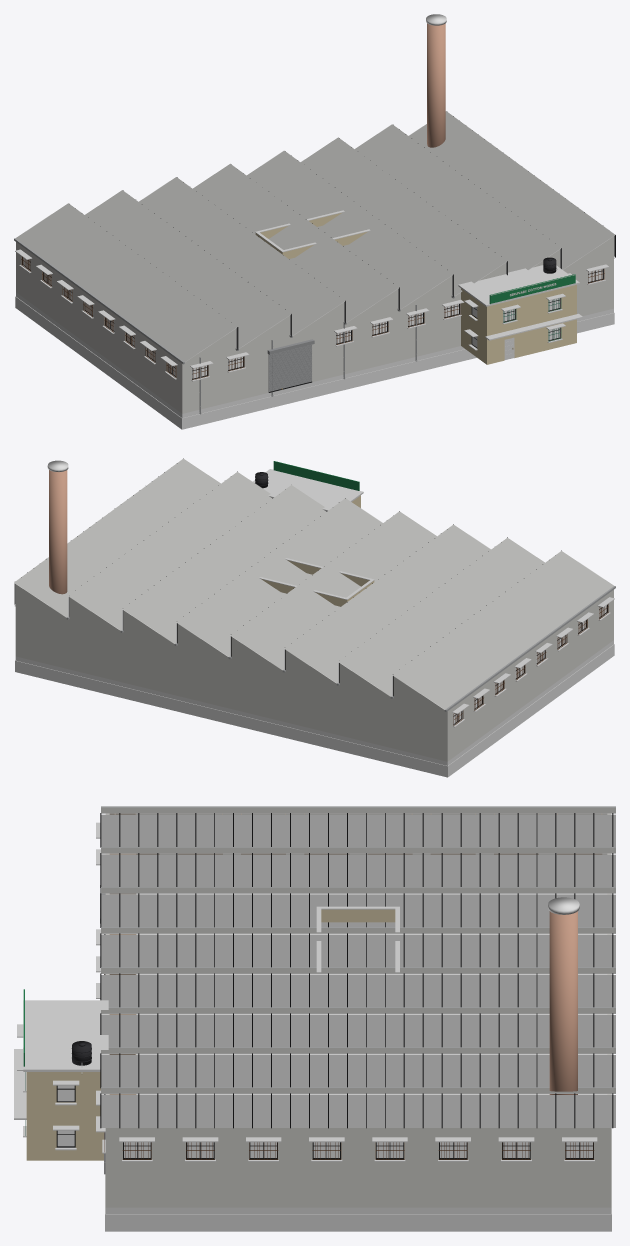
The model's file is mill_shed_48x32_1.glb.
3 renders of one model, top to bottom at view 1: azimuth 30°, elevation 25°; view 2: azimuth 150°, elevation 25°; view 3: azimuth 270°, elevation 25°, orthographic. The views are drawn at different scales.
Visible parts, largest first — view 1: mill_shed_48x32_1; view 2: mill_shed_48x32_1; view 3: mill_shed_48x32_1.
Part boxes in pixels (x1,y1,x2,y2): mill_shed_48x32_1: (14,14,615,429); mill_shed_48x32_1: (14,458,615,777); mill_shed_48x32_1: (14,806,615,1231).
Bounding box in the file's own units: 49.22 × 21.45 × 38.1.
